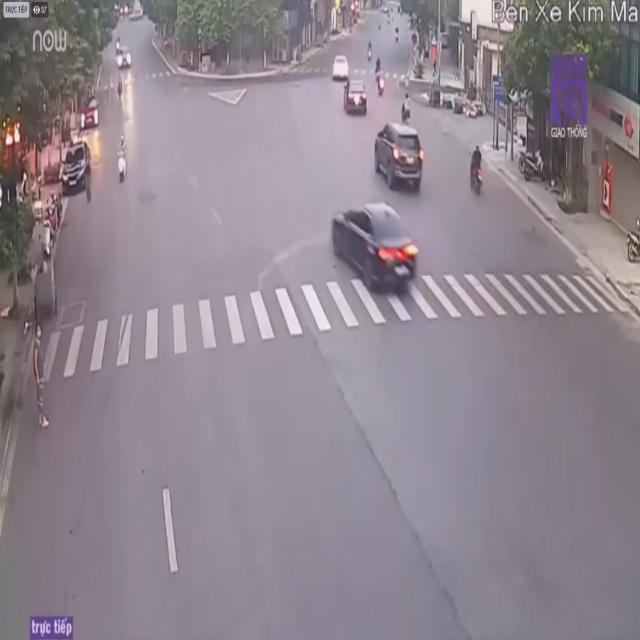car: (326, 200, 420, 294), (377, 121, 428, 192), (343, 78, 369, 118)
motorbike: (469, 147, 483, 195), (116, 138, 128, 184)
